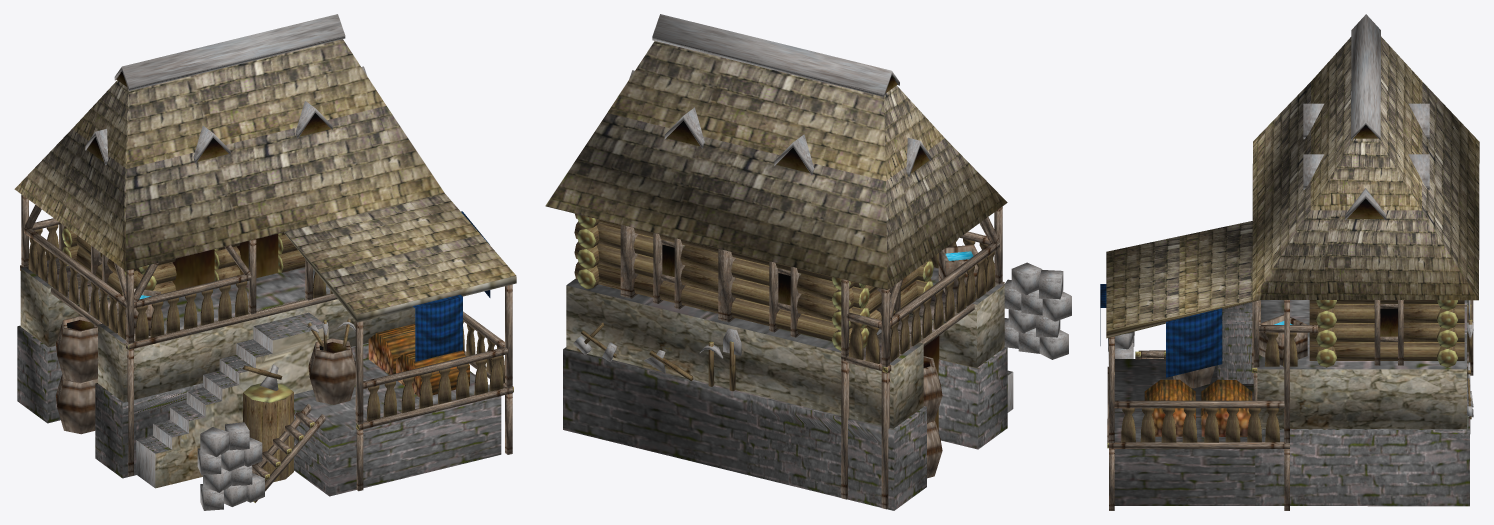
Rendered from storehouse.dae.
The picture shows the model from 3 angles, left to right: view 1: azimuth 30°, elevation 25°; view 2: azimuth 150°, elevation 25°; view 3: azimuth 270°, elevation 25°; orthographic projection. The views are drawn at different scales.
Parts seen in each view (by area): view 1: storehouse; view 2: storehouse; view 3: storehouse.
Part boxes in pixels (left/top/right/bottom): storehouse: left=14, top=14, right=516, bottom=510; storehouse: left=545, top=14, right=1071, bottom=510; storehouse: left=1100, top=14, right=1479, bottom=510.
Bounding box in the file's own units: 16.24 × 16.08 × 17.11.
